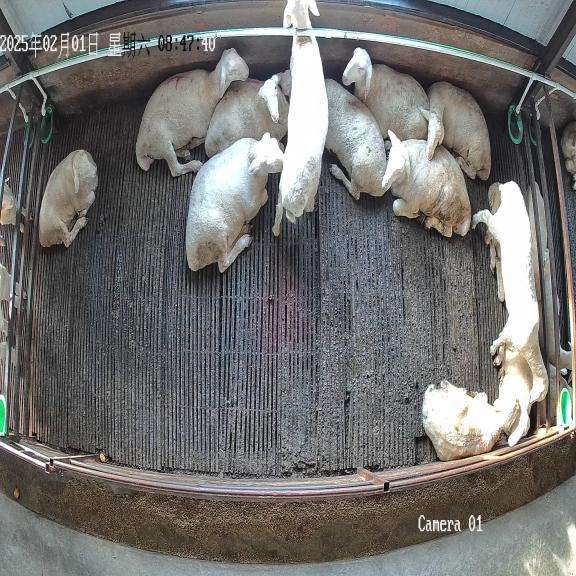lying: (278, 57, 387, 199), (136, 48, 249, 176), (186, 133, 284, 272), (382, 131, 471, 237), (342, 48, 430, 141), (422, 380, 519, 461), (418, 82, 491, 180), (205, 75, 288, 158), (39, 150, 98, 247), (493, 342, 533, 446), (484, 182, 505, 302)
stand: (472, 181, 548, 403), (273, 0, 328, 235)
